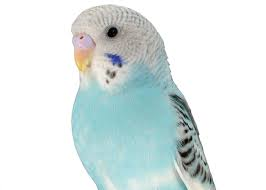budgie: (67, 4, 217, 190)
